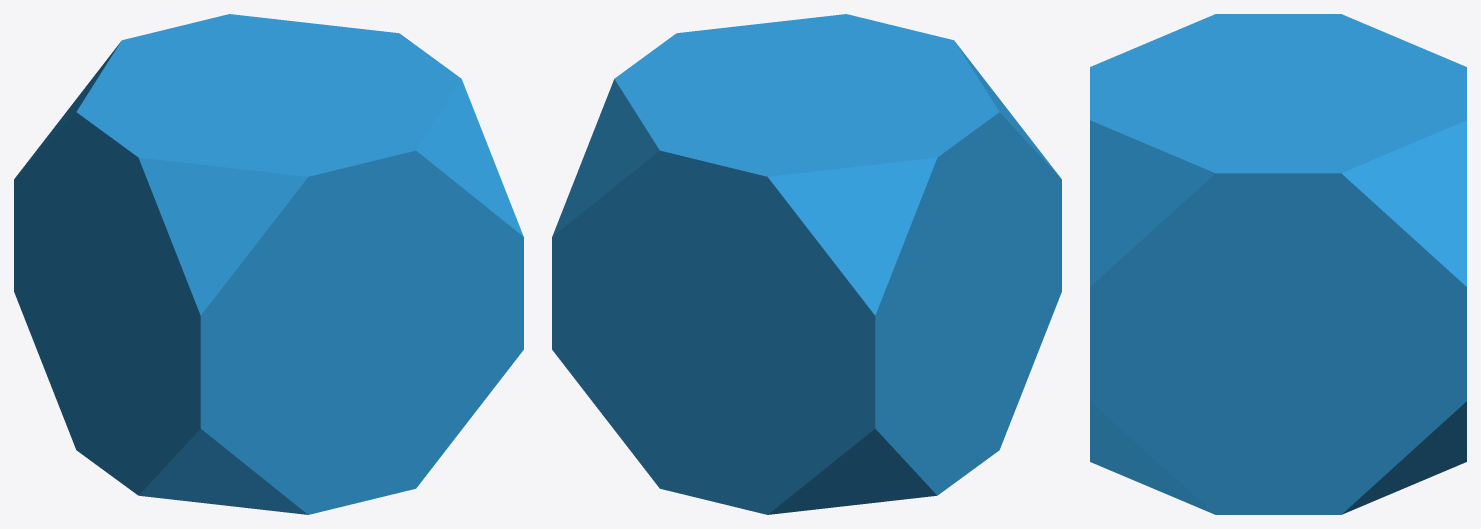
File: truncatedhexahedron.gltf
3 renders of one model, left to right at view 1: azimuth 30°, elevation 25°; view 2: azimuth 150°, elevation 25°; view 3: azimuth 270°, elevation 25°, orthographic.
Parts seen in each view (by area): view 1: Solid.001; view 2: Solid.001; view 3: Solid.001.
Part boxes in pixels (x1=…): Solid.001: x1=14, y1=14, x2=523, y2=514; Solid.001: x1=552, y1=14, x2=1061, y2=514; Solid.001: x1=1090, y1=14, x2=1466, y2=514.
Bounding box in the file's own units: 1.15 × 1.15 × 1.15.
